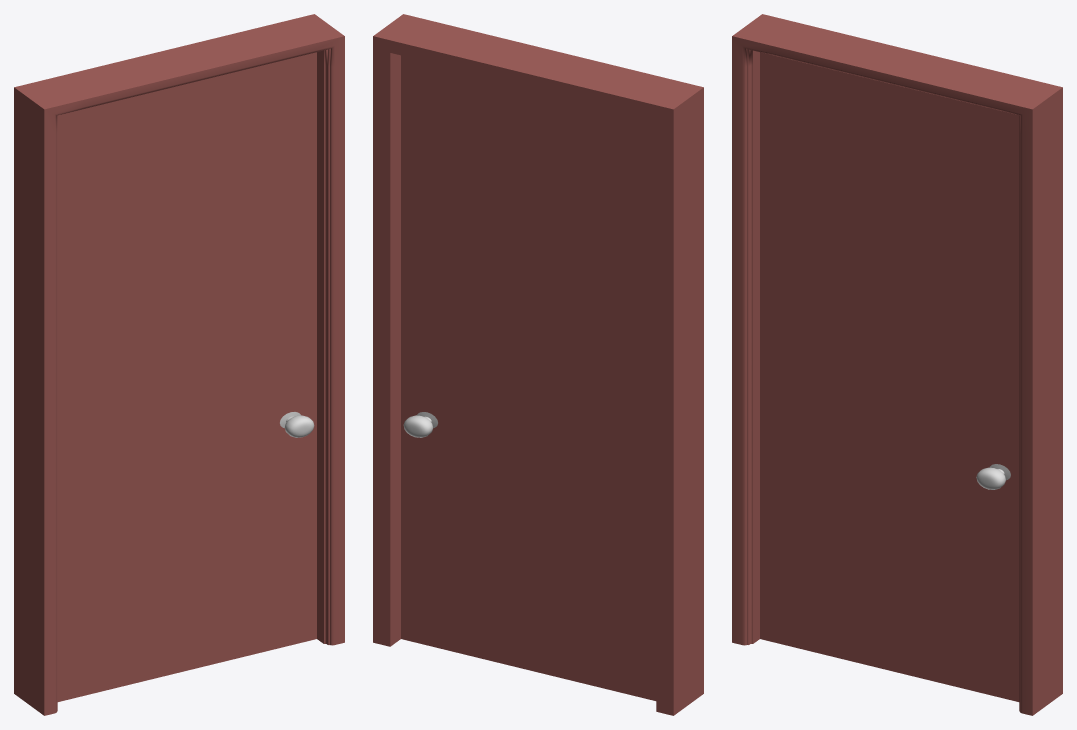
File: cherry_door.glb
3 renders of one model, left to right at view 1: azimuth 30°, elevation 25°; view 2: azimuth 150°, elevation 25°; view 3: azimuth 330°, elevation 25°, orthographic.
Visible parts, largest first — view 1: 16667_32x96_Slab_Door-Cherry_V1; view 2: 16667_32x96_Slab_Door-Cherry_V1; view 3: 16667_32x96_Slab_Door-Cherry_V1.
Part boxes in pixels (x1,y1,x2,y2): 16667_32x96_Slab_Door-Cherry_V1: (14, 14, 344, 715); 16667_32x96_Slab_Door-Cherry_V1: (373, 14, 703, 715); 16667_32x96_Slab_Door-Cherry_V1: (732, 14, 1062, 715).
Bounding box in the file's own units: 88.88 × 171 × 18.18.
